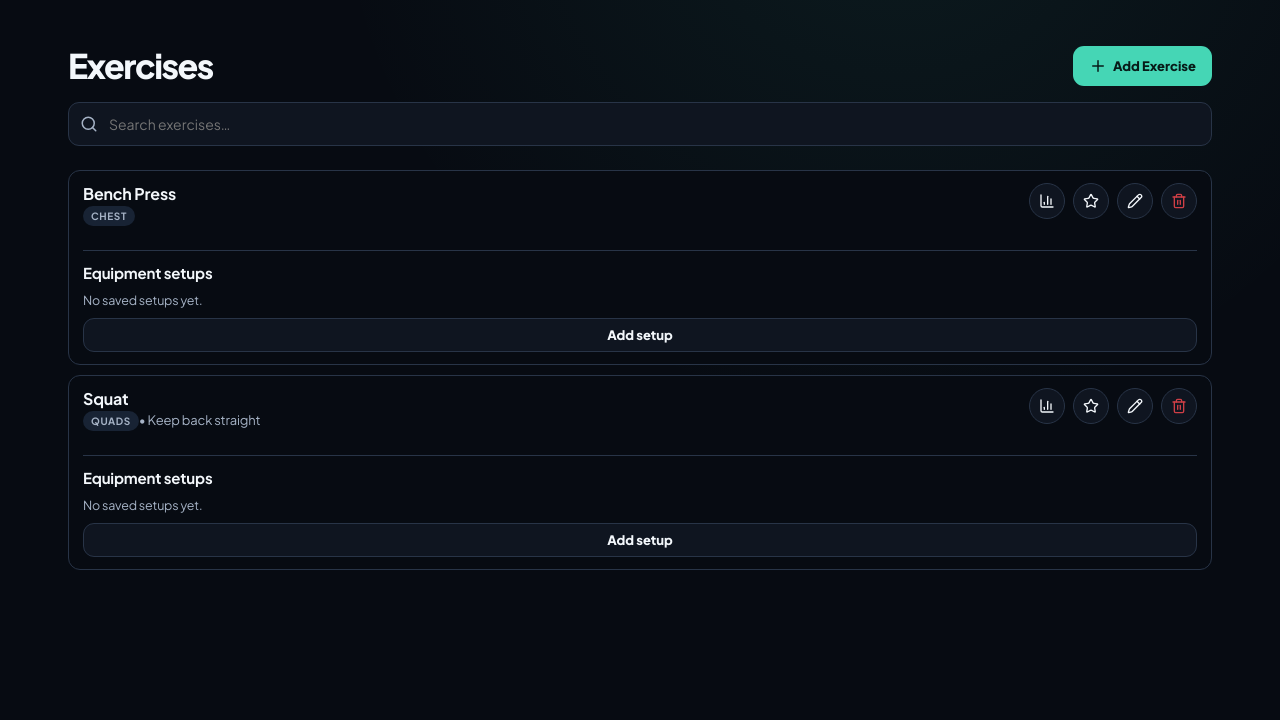
it: Exercises page › disables save button when name is empty
Click the button "Add Exercise". click: (1142, 66)
box: x1=1073 y1=46 x2=1212 y2=86
(page scrolled)
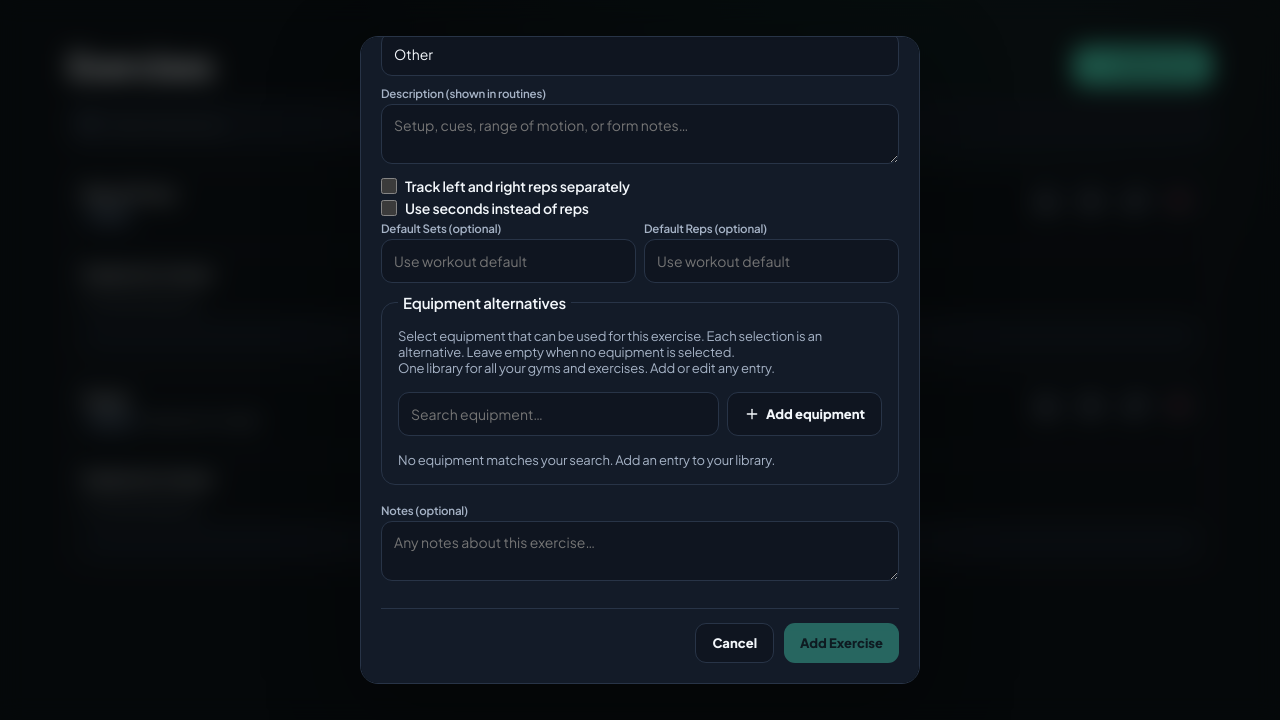
Expected: the button "Add Exercise" is disabled, x1=784 y1=623 x2=899 y2=663
